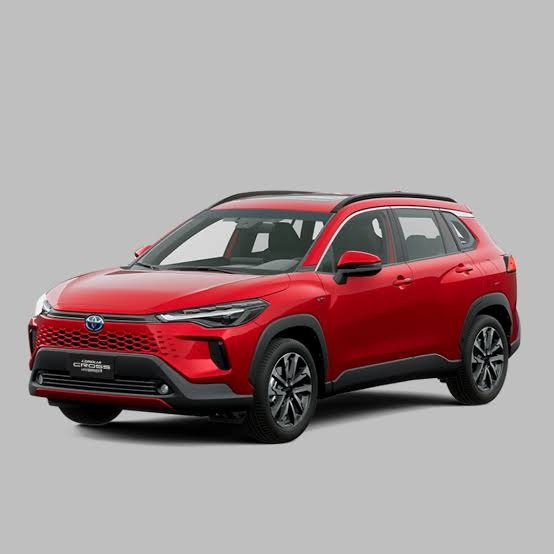car: (1, 183, 524, 444), (14, 183, 536, 442)
